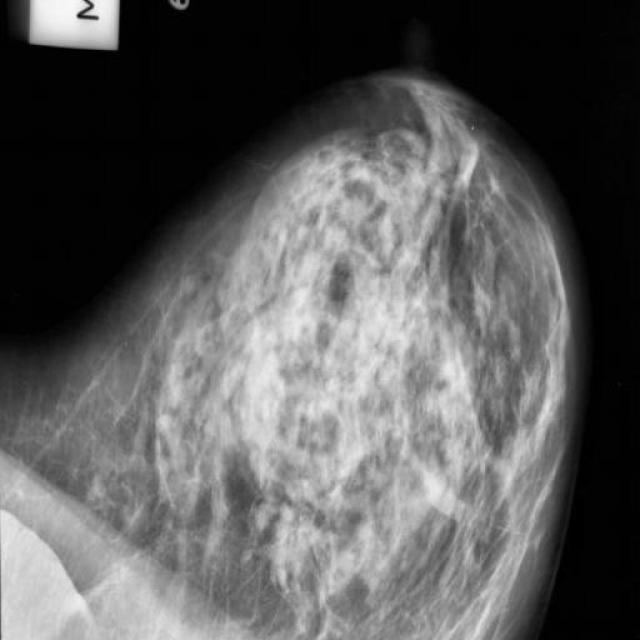cancer: (262, 480, 313, 541)
